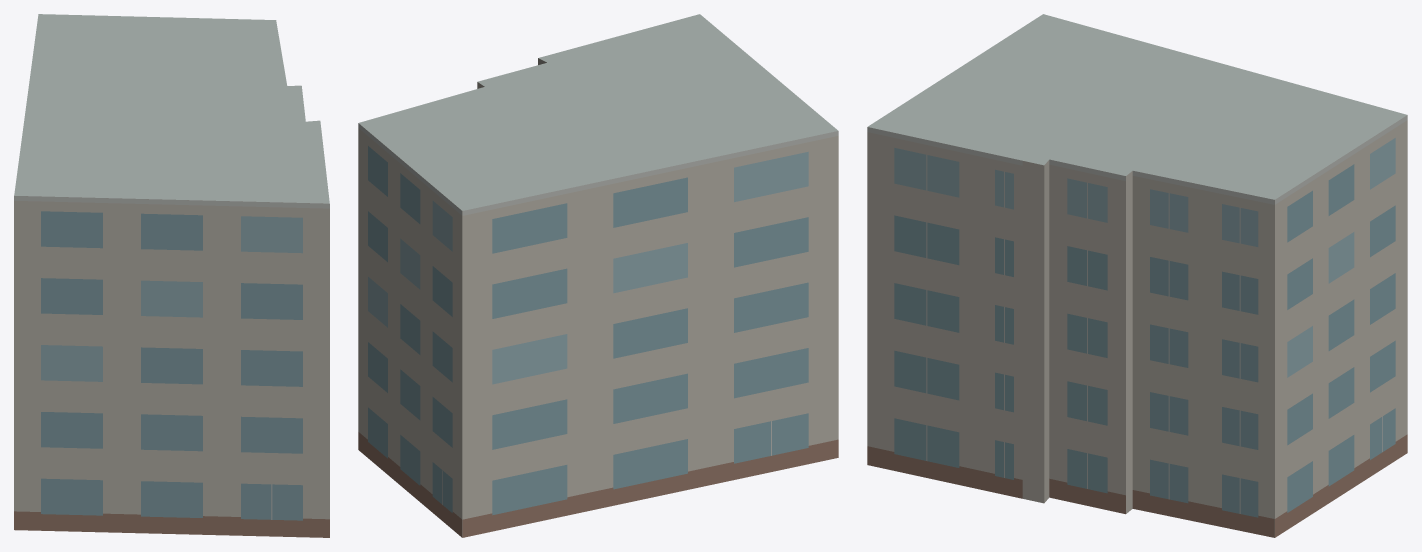
File: survey-upis-32989348.glb
The picture shows the model from 3 angles, left to right: view 1: azimuth 30°, elevation 25°; view 2: azimuth 150°, elevation 25°; view 3: azimuth 270°, elevation 25°; orthographic projection. The views are drawn at different scales.
Parts seen in each view (by area): view 1: survey-upis-32989348.tmp; view 2: survey-upis-32989348.tmp; view 3: survey-upis-32989348.tmp.
Part boxes in pixels (x1,y1,x2,y2): survey-upis-32989348.tmp: (14,14,329,537); survey-upis-32989348.tmp: (358,14,838,537); survey-upis-32989348.tmp: (867,14,1407,537).
Size of the model in its own units: 19.11 by 16.2 by 23.47.
